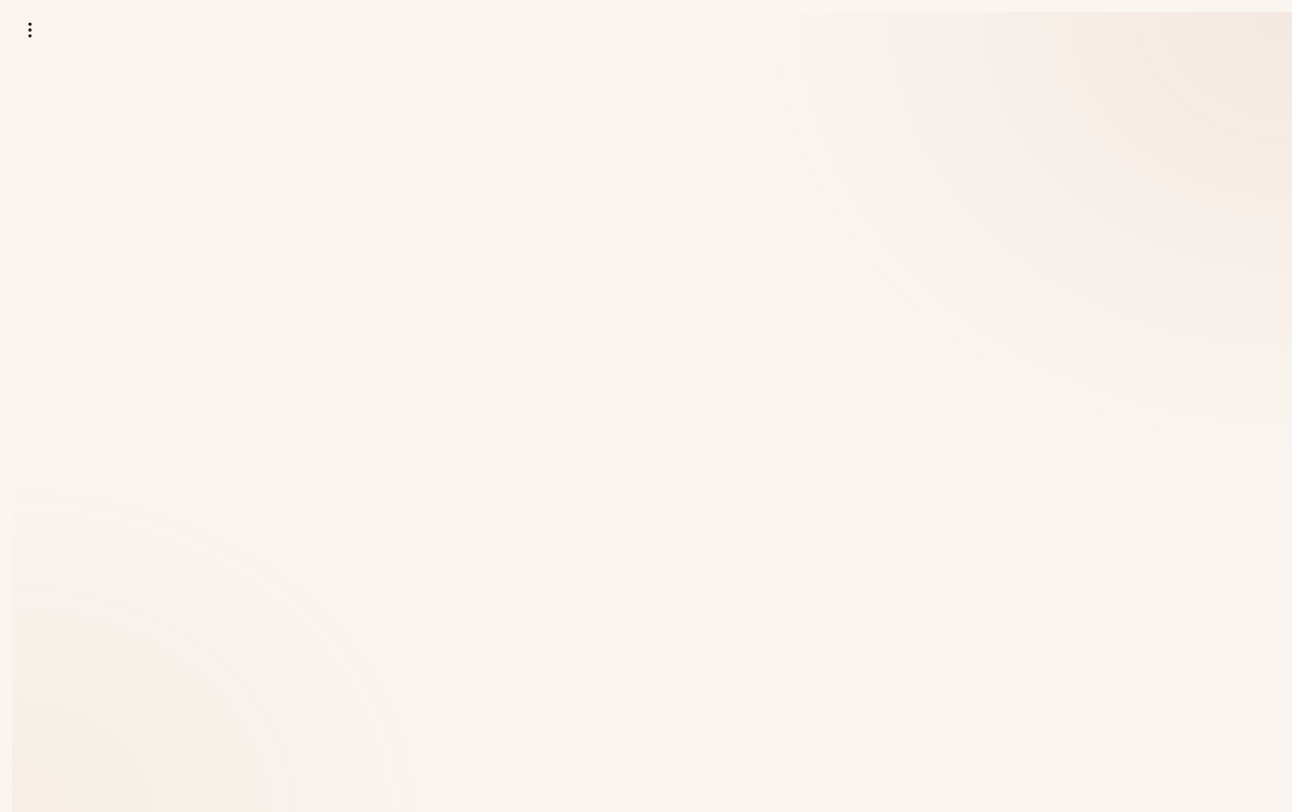
Test case: a list holding the video more than once shows how many times
The width and height of the screenshot is (1292, 812).
Click the button named "Add Squat to a list" at (30, 30), box x1=12 y1=12 x2=48 y2=48
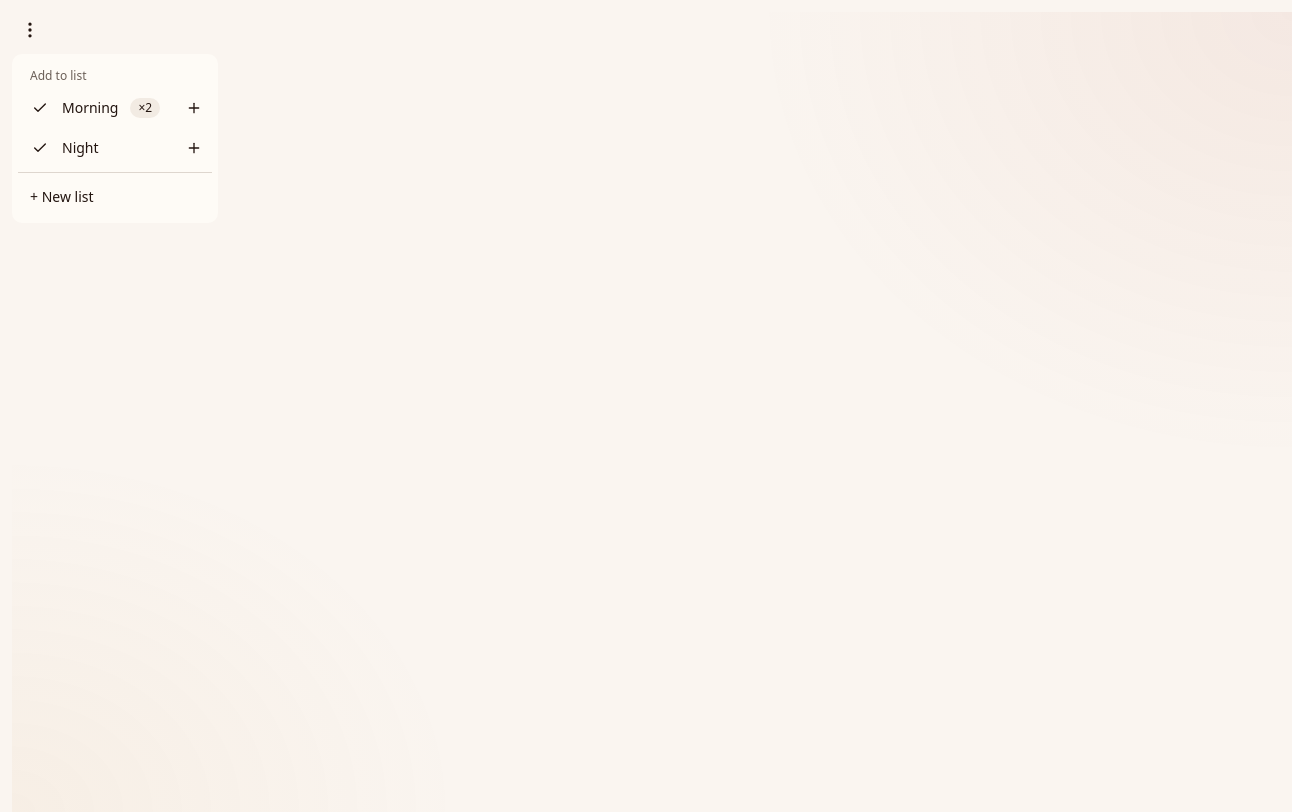
Check: the menu item "Night" does not show "×", box x1=32 y1=138 x2=99 y2=157
Check: the menu item "Morning ×2" is shown, box x1=32 y1=98 x2=160 y2=118
